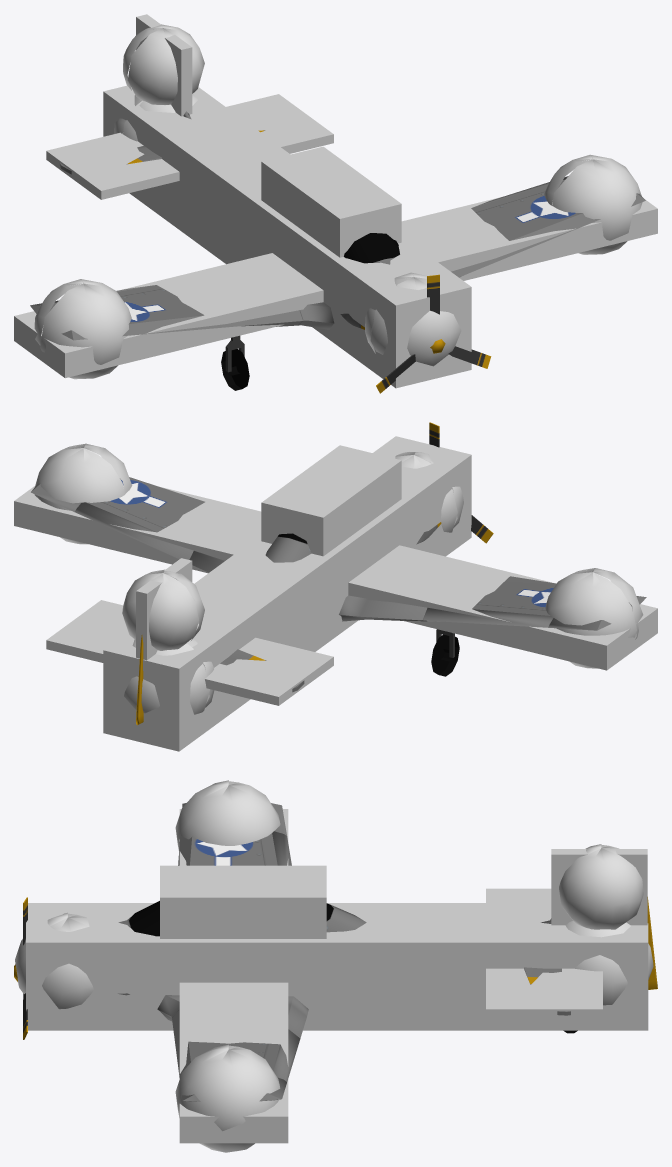
File: airplane-ww2-collision-scaled.glb
3 renders of one model, top to bottom at view 1: azimuth 30°, elevation 25°; view 2: azimuth 150°, elevation 25°; view 3: azimuth 270°, elevation 25°, orthographic. The views are drawn at different scales.
Visible parts, largest first — view 1: Cube.008, Cube.013, fuz, Cube.009, Cube.011, Sphere.002, Sphere.003, Sphere.004, Sphere.001, Cube.010, prop, wheel1 (+1 smaller); view 2: Cube.008, Cube.013, Cube.009, fuz, Cube.011, Sphere.002, Sphere.003, Sphere.004, Sphere.000, Cube.010, aeriL, aeirR (+3 smaller); view 3: Cube.008, Cube.009, Cube.013, fuz, Cube.011, Sphere.003, Sphere.004, Sphere.002, Sphere.001, Cube.010, Sphere.000, aeriL.
Part boxes in pixels (x1,y1,x2,y2): Cube.008: (103,85,471,388); Cube.013: (14,197,657,378); fuz: (30,111,645,372); Cube.009: (261,146,401,257); Cube.011: (46,94,333,199); Sphere.002: (34,279,131,379); Sphere.003: (544,154,642,254); Sphere.004: (123,24,204,104); Sphere.001: (365,272,461,366); Cube.010: (136,14,192,116); prop: (376,274,491,393); wheel1: (221,349,249,390); Cube.008: (103,436,471,751); Cube.013: (14,486,657,670); Cube.009: (261,445,401,556); fuz: (31,477,646,692); Cube.011: (46,600,333,705); Sphere.002: (545,568,643,668); Sphere.003: (34,443,132,544); Sphere.004: (122,569,204,650); Sphere.000: (124,638,214,714); Cube.010: (136,558,192,660); aeriL: (75,502,193,559); aeirR: (423,608,553,627); Cube.008: (26,903,648,1030); Cube.009: (160,865,326,938); Cube.013: (179,809,288,1143); fuz: (118,803,570,1101); Cube.011: (486,888,602,1018); Sphere.003: (175,1044,280,1152); Sphere.004: (559,844,643,929); Sphere.002: (175,780,280,850); Sphere.001: (15,912,93,1009); Cube.010: (551,849,647,925); Sphere.000: (565,920,653,1005); aeriL: (273,1029,300,1081).
Bounding box in the file's own units: 3.28 × 1.08 × 2.88.
Materials: 4 (1 with a texture image).
